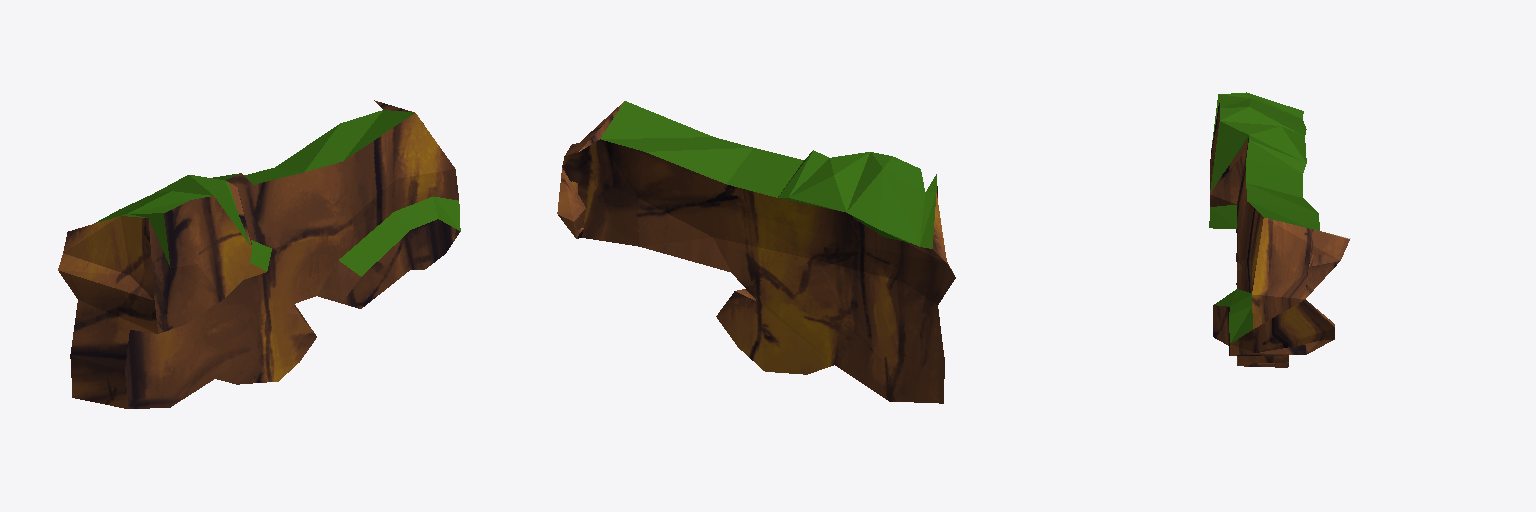
The picture shows the model from 3 angles: view 1: azimuth 30°, elevation 25°; view 2: azimuth 150°, elevation 25°; view 3: azimuth 270°, elevation 25°; orthographic projection.
Visible parts, largest first — view 1: Plane.038_Plane.041; view 2: Plane.038_Plane.041; view 3: Plane.038_Plane.041.
Boxes of the visible parts, <box> form: Plane.038_Plane.041: <box>58,100,460,408</box>; Plane.038_Plane.041: <box>557,101,955,403</box>; Plane.038_Plane.041: <box>1209,92,1350,367</box>.
Size of the model in its own units: 289 by 161 by 91.66.
1 materials, 1 textured.